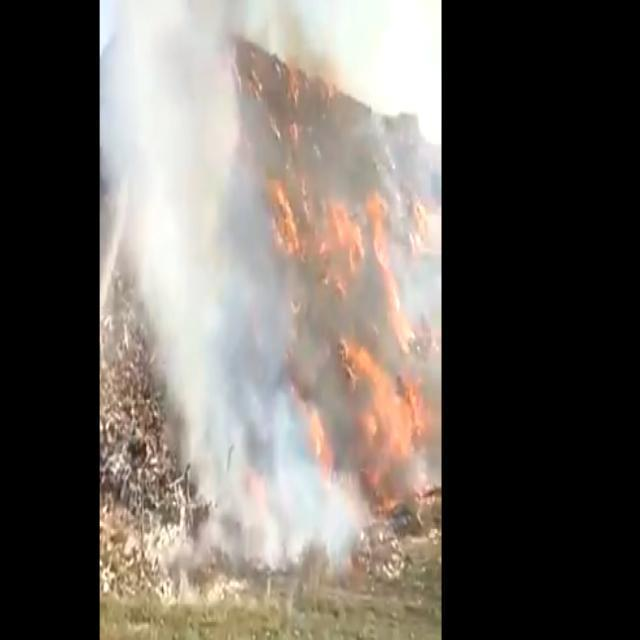Fire: (337, 346, 429, 500), (264, 178, 389, 269)
Smoke: (101, 0, 432, 583)
